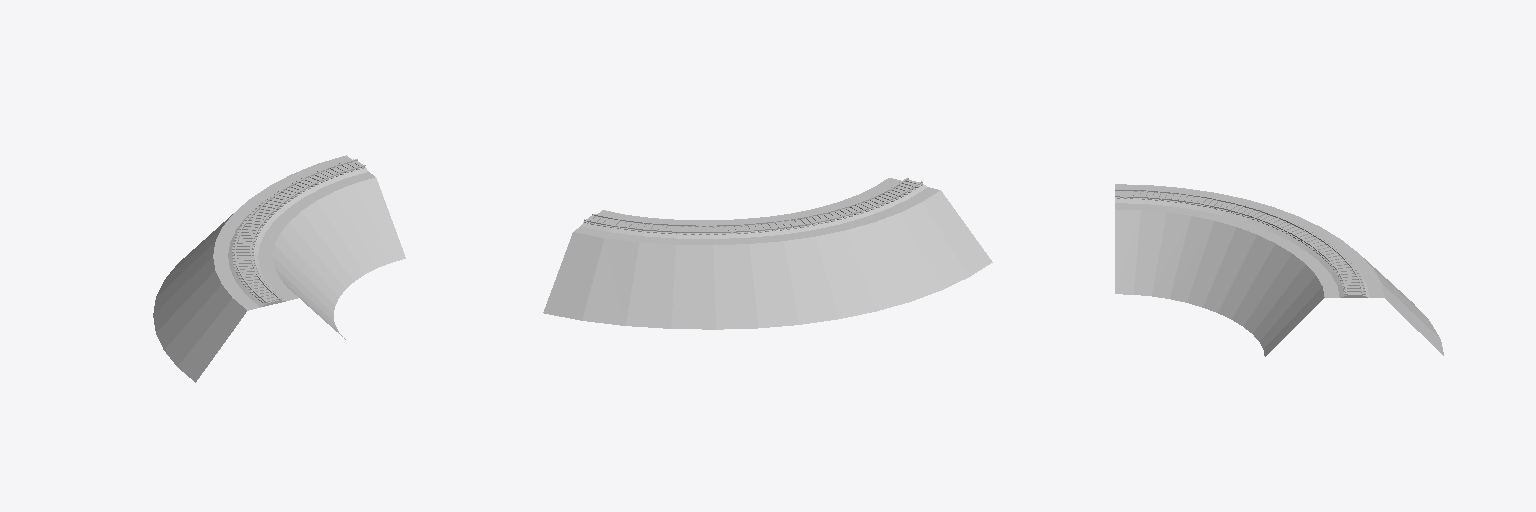
The model's file is SM_Env_Track_Ridge_Corner_01.obj.
The picture shows the model from 3 angles: view 1: azimuth 30°, elevation 25°; view 2: azimuth 150°, elevation 25°; view 3: azimuth 270°, elevation 25°; orthographic projection.
Parts seen in each view (by area): view 1: SM_Env_Track_Ridge_Corner_01:Mesh; view 2: SM_Env_Track_Ridge_Corner_01:Mesh; view 3: SM_Env_Track_Ridge_Corner_01:Mesh.
Part boxes in pixels (left/top/right/bottom): SM_Env_Track_Ridge_Corner_01:Mesh: left=153, top=155, right=405, bottom=382; SM_Env_Track_Ridge_Corner_01:Mesh: left=543, top=178, right=992, bottom=329; SM_Env_Track_Ridge_Corner_01:Mesh: left=1115, top=184, right=1443, bottom=356.
Size of the model in its own units: 55.04 by 11.73 by 55.04.